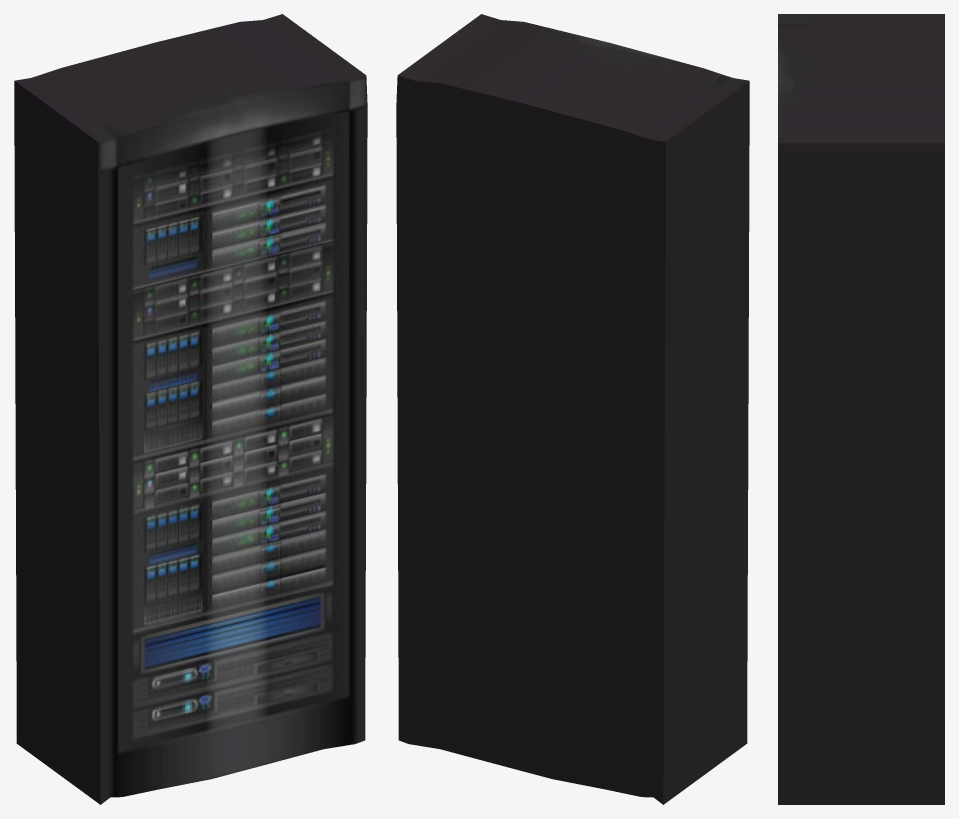
File: server dalam rak.fbx
3 renders of one model, left to right at view 1: azimuth 30°, elevation 25°; view 2: azimuth 150°, elevation 25°; view 3: azimuth 270°, elevation 25°, orthographic.
Parts seen in each view (by area): view 1: root; view 2: root; view 3: root.
Boxes of the visible parts, x1,y1,x2,y2 form: root: (14,14,367,804); root: (396,14,749,804); root: (778,14,944,804).
Size of the model in its own units: 0.1856 by 0.4402 by 0.1.
Materials: 1 (1 with a texture image).
